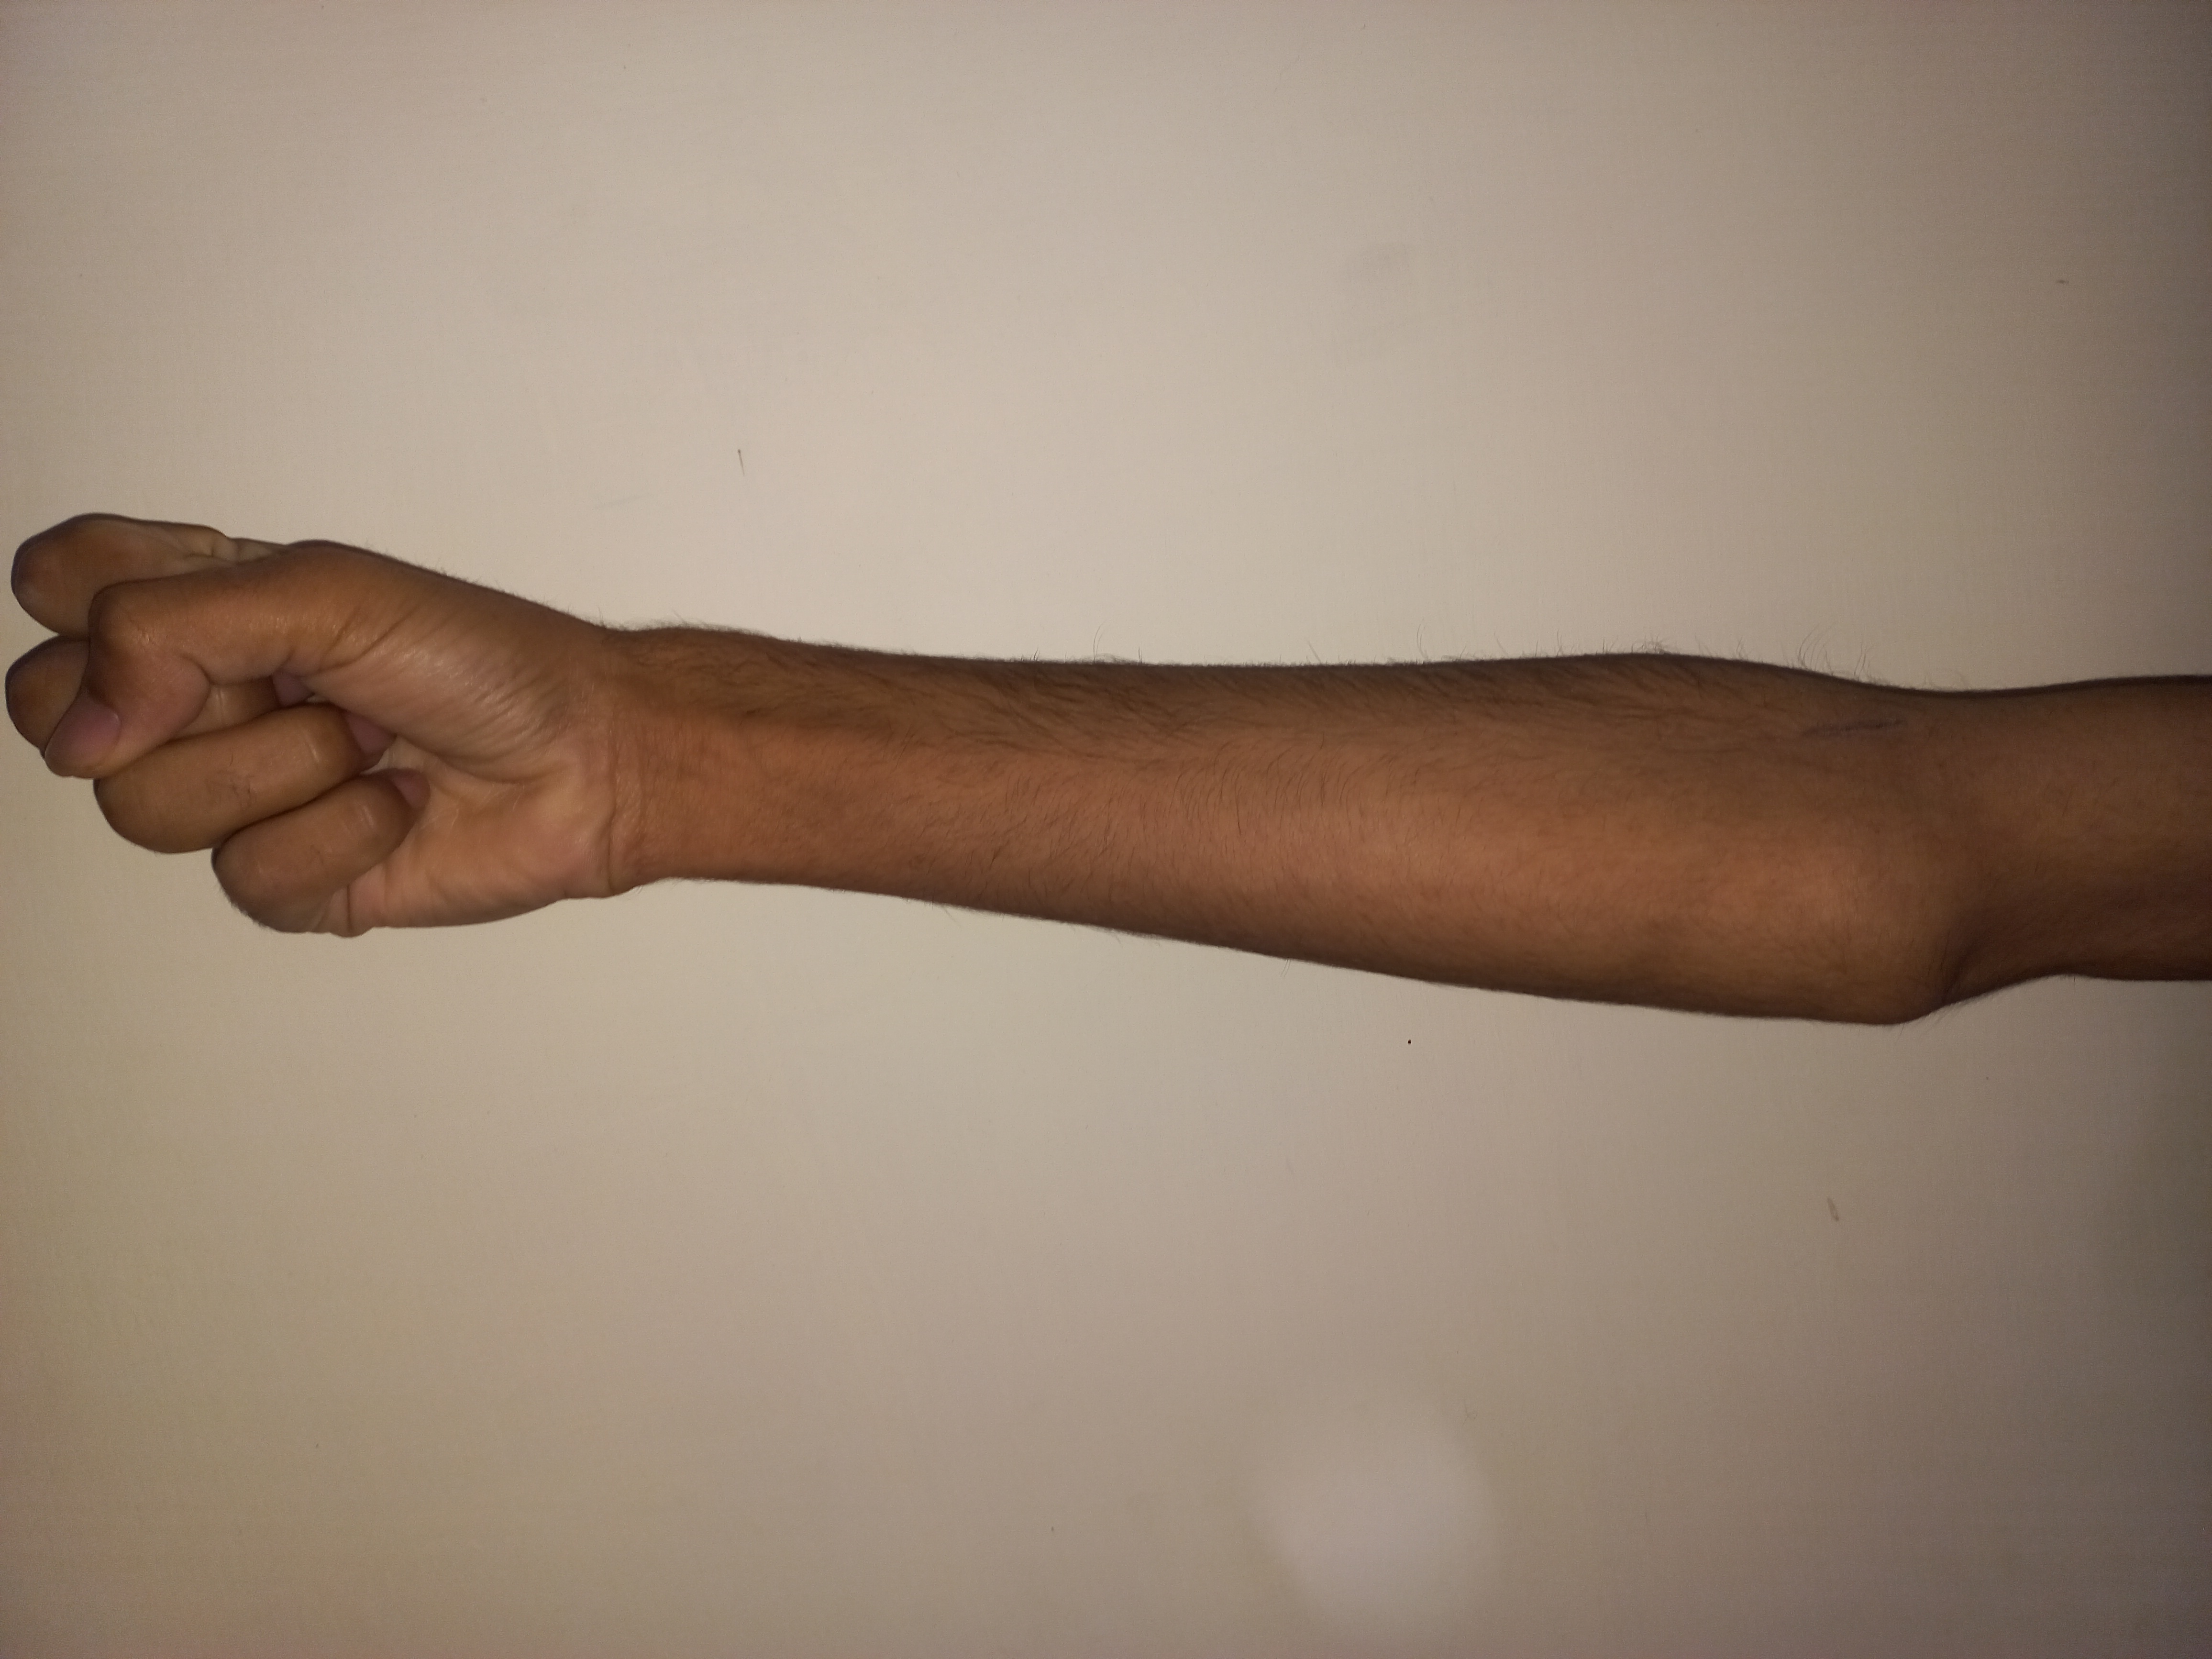vein: (1757, 708, 1898, 753)
